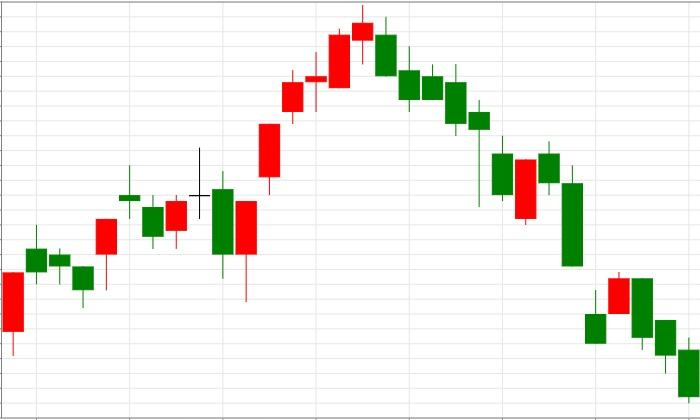hammer_rise: (351, 4, 490, 208)
